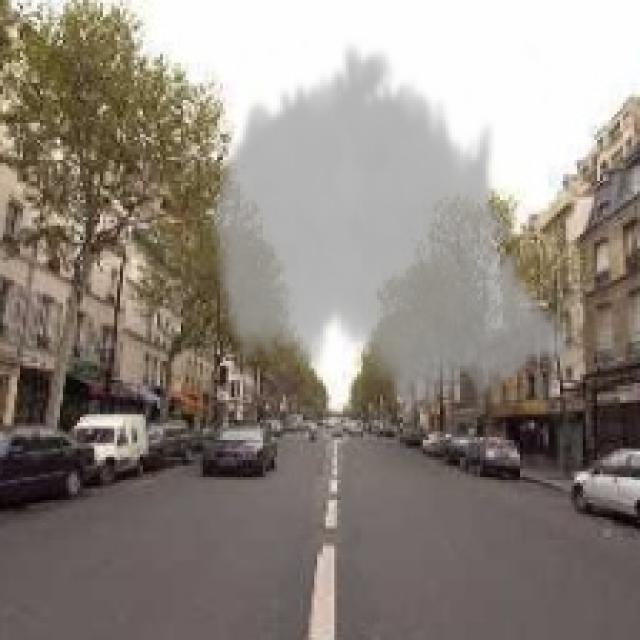smoke: (206, 37, 574, 426)
